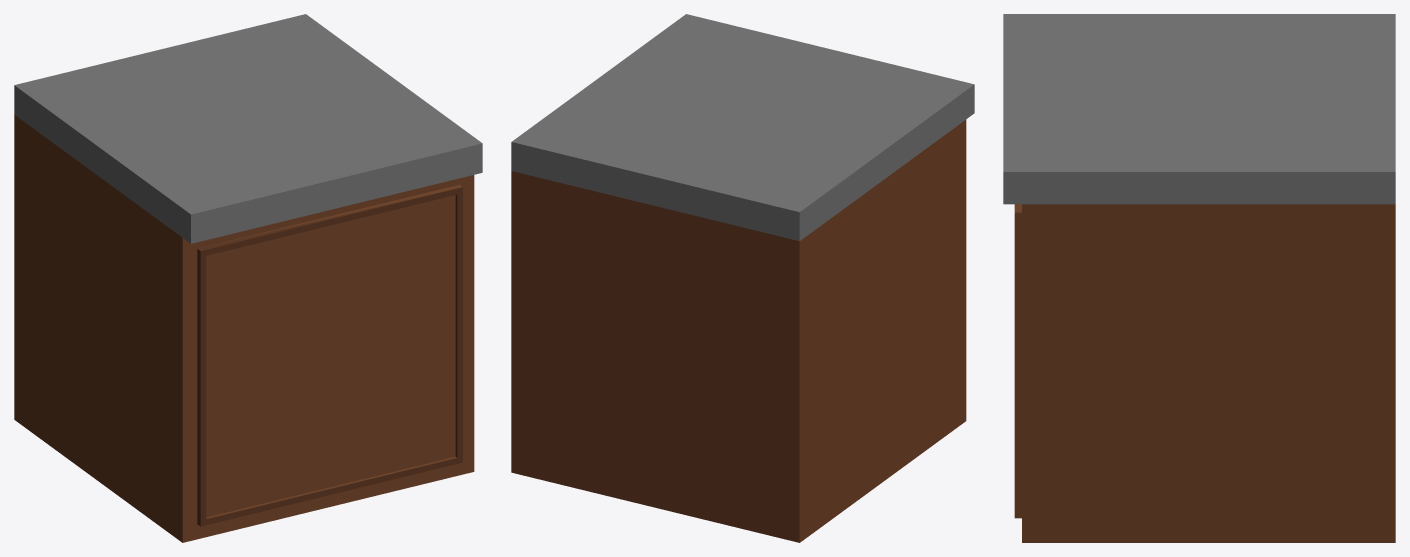
Rendered from cabinet2.fbx.
3 views of the same model, side by side, from view 1: azimuth 30°, elevation 25°; view 2: azimuth 150°, elevation 25°; view 3: azimuth 270°, elevation 25° (orthographic). The views are drawn at different scales.
Visible parts, largest first — view 1: cabinet.002; view 2: cabinet.002; view 3: cabinet.002.
Part boxes in pixels (<box>): cabinet.002: <box>14,14,482,542</box>; cabinet.002: <box>511,14,974,542</box>; cabinet.002: <box>1003,14,1395,542</box>.
Size of the model in its own units: 105 by 100 by 110.
